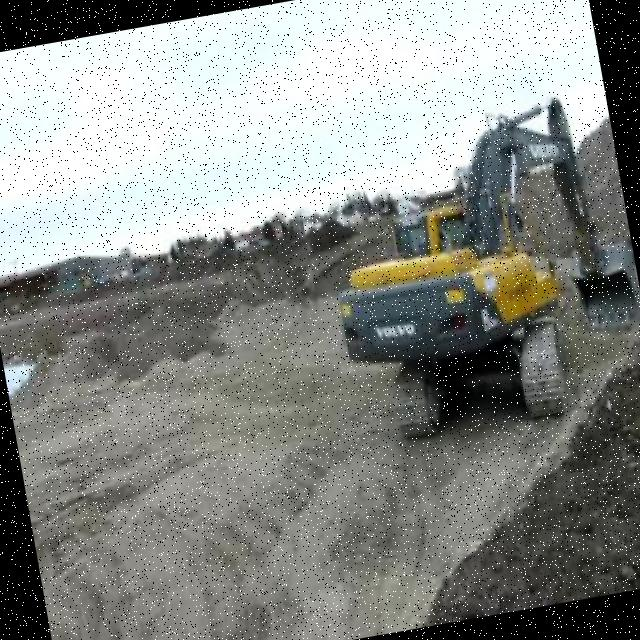Excavator: (303, 80, 640, 443)
